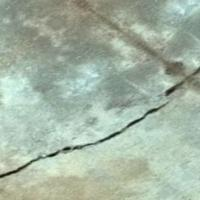crack: (2, 66, 199, 188)
